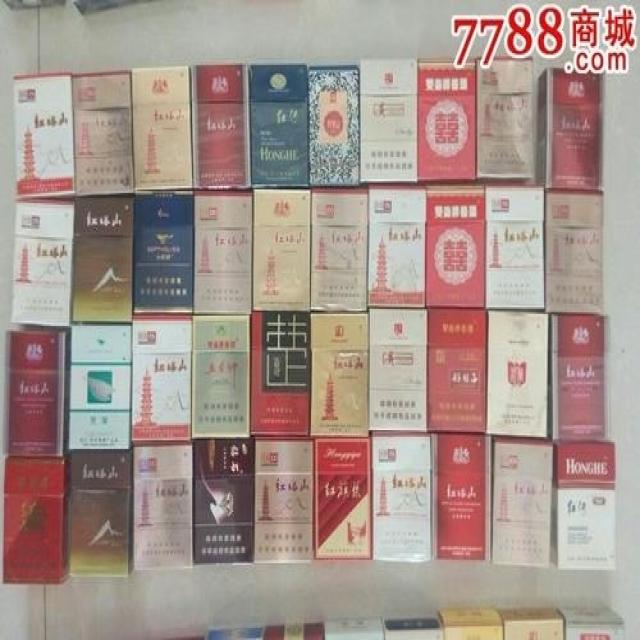box: (370, 432, 438, 561), (70, 193, 136, 323), (552, 439, 617, 570), (65, 324, 132, 451), (490, 433, 553, 567), (535, 67, 604, 189), (4, 456, 69, 584), (68, 449, 133, 577), (132, 440, 196, 570), (12, 195, 74, 329), (6, 326, 69, 457), (486, 309, 549, 440), (70, 70, 136, 195), (188, 61, 252, 189), (484, 179, 545, 311), (12, 72, 74, 201), (253, 439, 315, 565), (426, 307, 488, 433), (192, 439, 253, 567), (358, 56, 419, 184), (132, 316, 192, 445), (434, 430, 492, 563), (131, 65, 193, 189), (192, 188, 253, 314), (425, 181, 485, 309), (251, 312, 311, 439), (191, 314, 251, 440), (252, 184, 311, 312), (250, 63, 310, 188), (133, 189, 193, 314), (476, 56, 536, 181), (310, 312, 369, 439), (367, 183, 426, 309), (369, 307, 428, 433), (549, 312, 607, 440), (417, 58, 476, 183), (545, 189, 604, 314), (310, 184, 367, 312), (314, 439, 372, 561), (307, 63, 360, 184), (557, 606, 627, 640), (438, 606, 504, 640), (498, 606, 563, 640), (383, 614, 443, 640), (324, 618, 385, 640), (264, 621, 324, 640), (205, 628, 262, 640), (146, 633, 206, 640)
